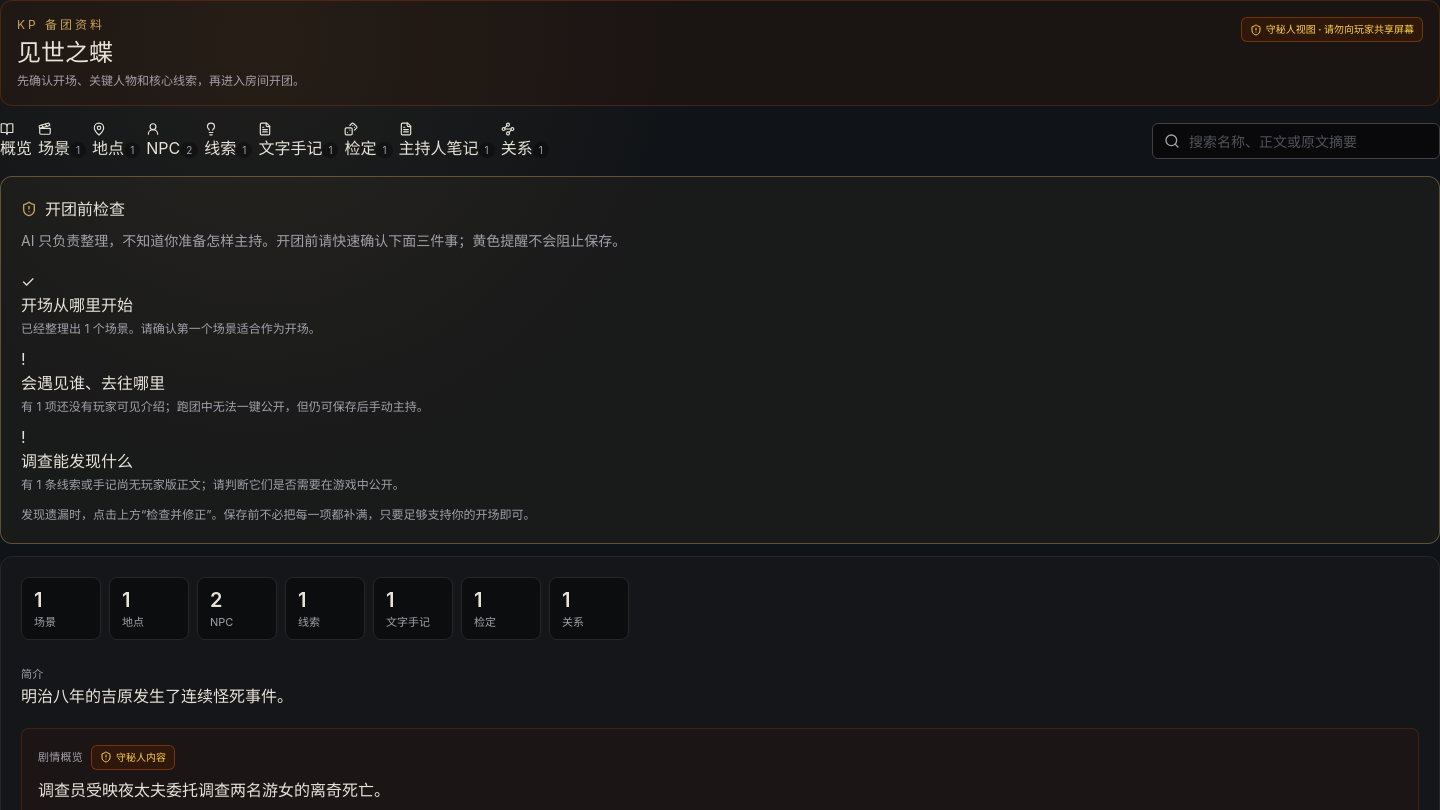
Test case: ModuleEntityBrowser › shows human-readable relationship endpoints without requiring internal IDs
Click the tab "关系1".
click(525, 141)  # box [501,122,549,160]
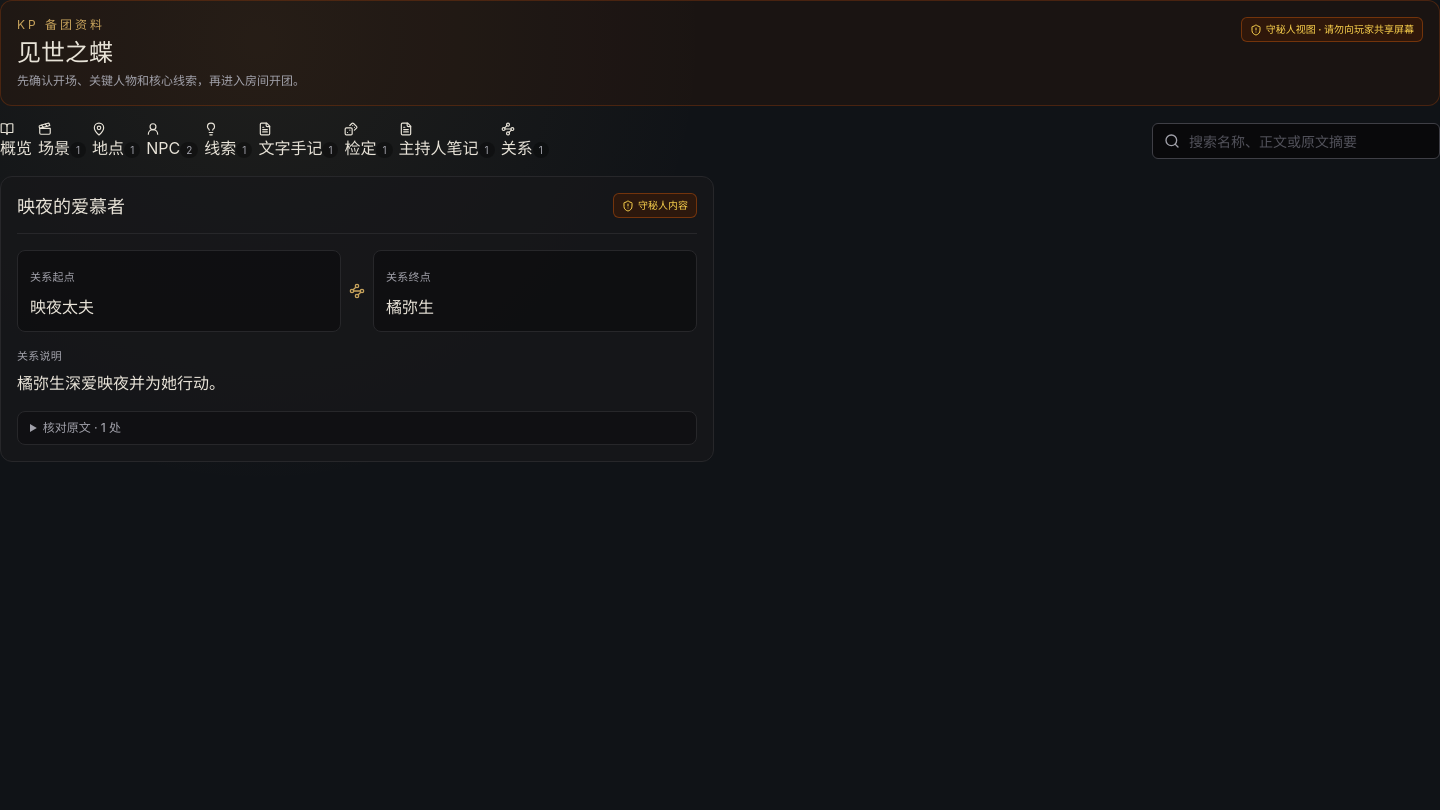
expect the text "映夜太夫" is shown: met, box [30,297,94,317]
expect the text "橘弥生" is shown: met, box [386,297,434,317]
Click the tab "文字手记1".
click(298, 141)  # box [258,122,338,160]
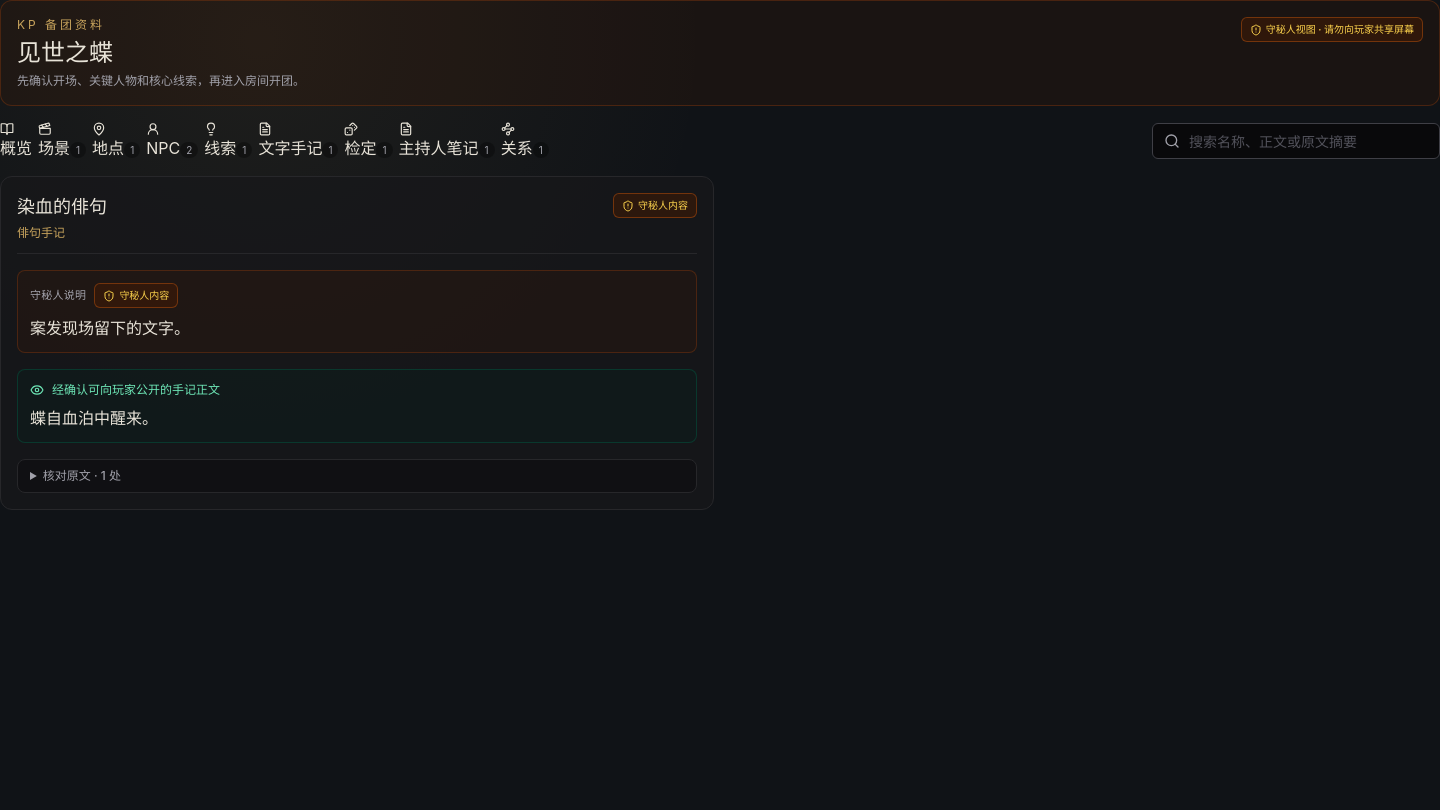
expect the heading "染血的俳句" is shown: met, box [17,193,107,221]
expect the text "蝶自血泊中醒来。" is shown: met, box [30,408,158,428]
